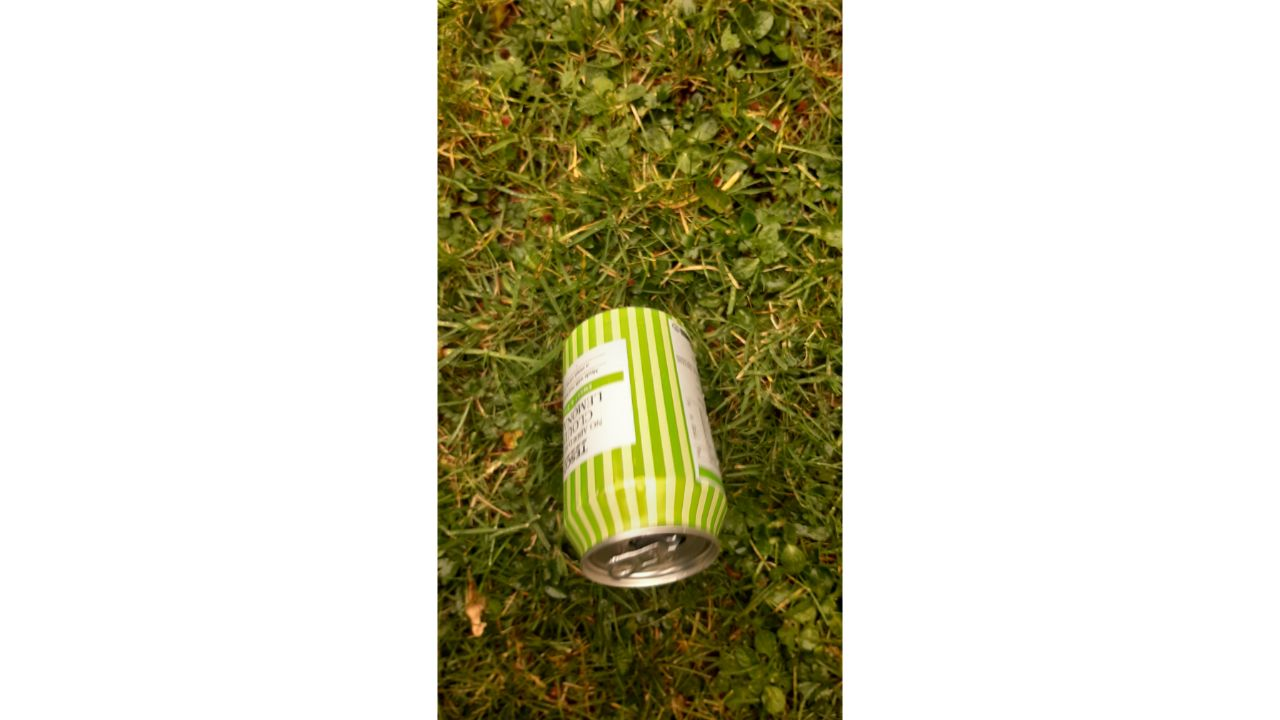Can: (539, 289, 739, 599)
